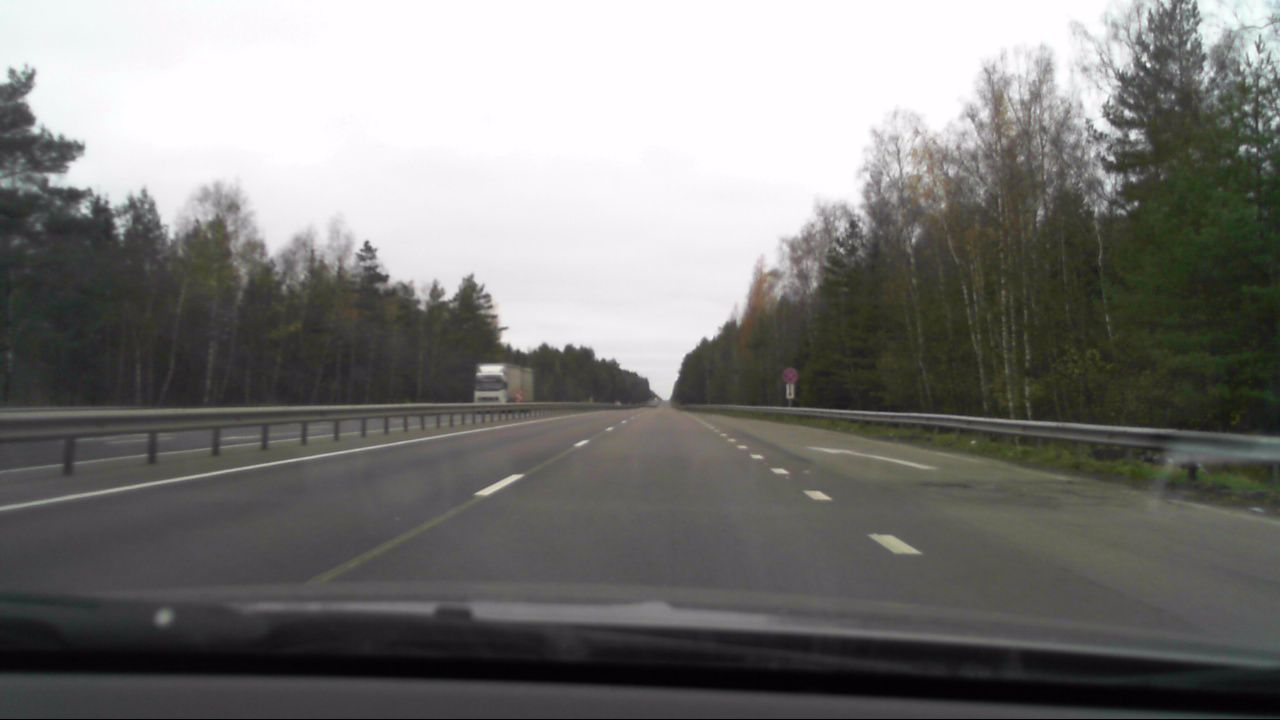No Parking: (781, 365, 800, 383)
